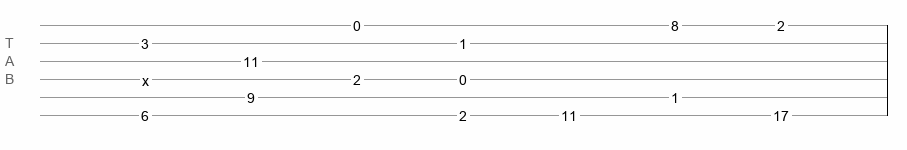0: (353, 18, 361, 28), (459, 72, 467, 82)
1: (459, 36, 467, 46), (671, 90, 679, 100)
11: (243, 54, 259, 64), (561, 108, 577, 118)
17: (773, 108, 789, 118)
2: (353, 72, 361, 82), (459, 108, 467, 118), (777, 18, 785, 28)
3: (141, 36, 149, 46)
6: (141, 108, 149, 118)
8: (671, 18, 679, 28)
9: (247, 90, 255, 100)
x: (142, 73, 149, 81)
